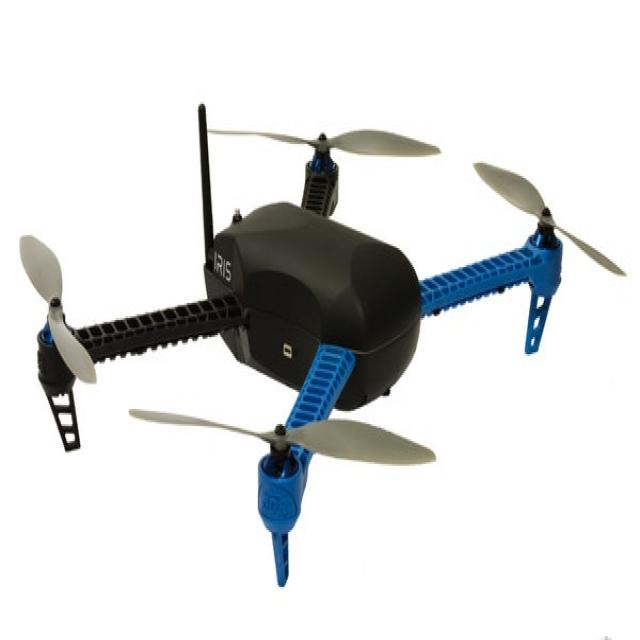drone: (0, 87, 640, 566)
